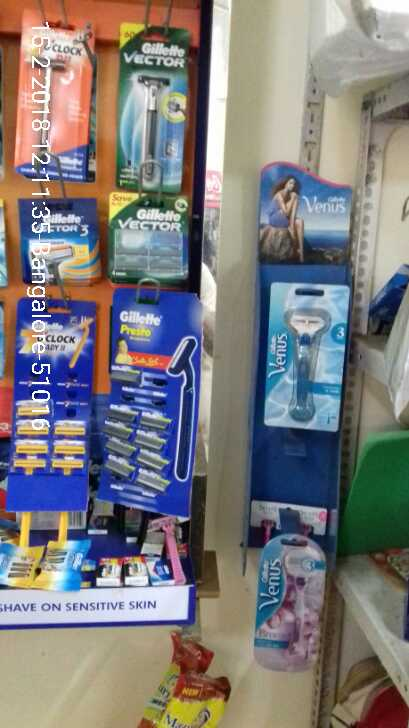beauty: (104, 292, 209, 520), (18, 308, 99, 507), (108, 15, 192, 196), (16, 19, 100, 177), (266, 274, 342, 436), (251, 530, 326, 676), (102, 191, 194, 286), (16, 191, 96, 278), (37, 534, 88, 598)
